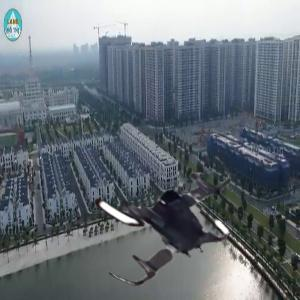drone: (77, 127, 247, 297)
